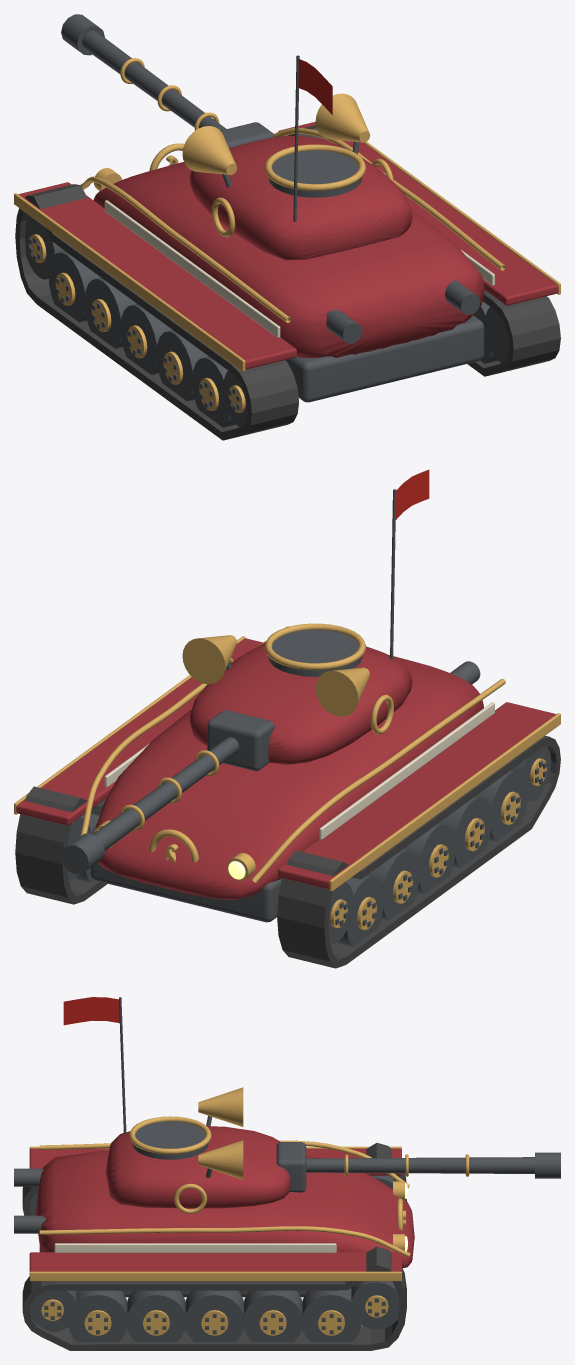
The model's file is parade-tank.glb.
3 renders of one model, top to bottom at view 1: azimuth 30°, elevation 25°; view 2: azimuth 150°, elevation 25°; view 3: azimuth 270°, elevation 25°, orthographic. The views are drawn at different scales.
Parts seen in each view (by area): view 1: tank / Tank parade enamel, tank / Tank track links, tankTurret / Tank parade enamel, tank / Tank gunmetal, tank / Brushed champagne brass, tankTurret / Brushed champagne brass, tankTurret / Tank gunmetal, tankBarrel / Tank gunmetal, tank / Ivory enamel, tankWheel-L-2 / Tank gunmetal, tankWheel-L-4 / Tank gunmetal, tankWheel-L-3 / Tank gunmetal (+8 smaller); view 2: tank / Tank parade enamel, tank / Tank track links, tankTurret / Tank parade enamel, tank / Brushed champagne brass, tankTurret / Tank gunmetal, tankTurret / Brushed champagne brass, tankBarrel / Tank gunmetal, tank / Tank gunmetal, tank / Ivory enamel, tankWheel-L-3 / Tank gunmetal, tankWheel-L-4 / Tank gunmetal, tankWheel-L-2 / Tank gunmetal (+6 smaller); view 3: tank / Tank parade enamel, tank / Tank track links, tankTurret / Tank parade enamel, tank / Brushed champagne brass, tankBarrel / Tank gunmetal, tankTurret / Brushed champagne brass, tankTurret / Tank gunmetal, tank / Ivory enamel, tankWheel-R-4 / Tank gunmetal, tankWheel-R-2 / Tank gunmetal, tankWheel-R-3 / Tank gunmetal, tankWheel-R-1 / Tank gunmetal (+10 smaller).
Part boxes in pixels (x1,y1,x2,y2): tank / Tank parade enamel: (18, 121, 558, 369); tank / Tank track links: (15, 125, 560, 440); tankTurret / Tank parade enamel: (189, 135, 412, 260); tank / Tank gunmetal: (285, 280, 484, 402); tank / Brushed champagne brass: (14, 127, 560, 371); tankTurret / Brushed champagne brass: (182, 93, 393, 237); tankTurret / Tank gunmetal: (220, 55, 362, 221); tankBarrel / Tank gunmetal: (61, 14, 226, 130); tank / Ivory enamel: (104, 200, 494, 337); tankWheel-L-2 / Tank gunmetal: (84, 277, 136, 348); tankWheel-L-4 / Tank gunmetal: (157, 330, 208, 401); tankWheel-L-3 / Tank gunmetal: (121, 304, 172, 374); tank / Tank parade enamel: (16, 638, 556, 899); tank / Tank track links: (15, 735, 560, 968); tankTurret / Tank parade enamel: (189, 642, 412, 764); tank / Brushed champagne brass: (14, 626, 560, 891); tankTurret / Tank gunmetal: (207, 489, 396, 770); tankTurret / Brushed champagne brass: (182, 623, 393, 734); tankBarrel / Tank gunmetal: (61, 737, 239, 874); tank / Tank gunmetal: (90, 661, 480, 922); tank / Ivory enamel: (104, 702, 494, 839); tankWheel-L-3 / Tank gunmetal: (403, 823, 455, 893); tankWheel-L-4 / Tank gunmetal: (439, 796, 491, 867); tankWheel-L-2 / Tank gunmetal: (367, 849, 419, 920); tank / Tank parade enamel: (29, 1148, 414, 1271); tank / Tank track links: (22, 1143, 406, 1350); tankTurret / Tank parade enamel: (105, 1126, 290, 1208); tank / Brushed champagne brass: (29, 1140, 410, 1281); tankBarrel / Tank gunmetal: (306, 1152, 560, 1178); tankTurret / Brushed champagne brass: (129, 1087, 243, 1213); tankTurret / Tank gunmetal: (119, 997, 306, 1192); tank / Ivory enamel: (54, 1243, 336, 1252); tankWheel-R-4 / Tank gunmetal: (126, 1290, 186, 1342); tankWheel-R-2 / Tank gunmetal: (243, 1290, 302, 1342); tankWheel-R-3 / Tank gunmetal: (184, 1290, 243, 1342); tankWheel-R-1 / Tank gunmetal: (301, 1288, 361, 1342).
Size of the model in its own units: 2.97 by 3.01 by 5.43.
